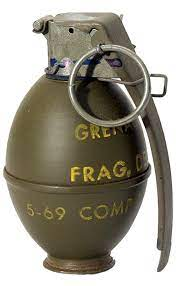bomb: (6, 10, 172, 275)
